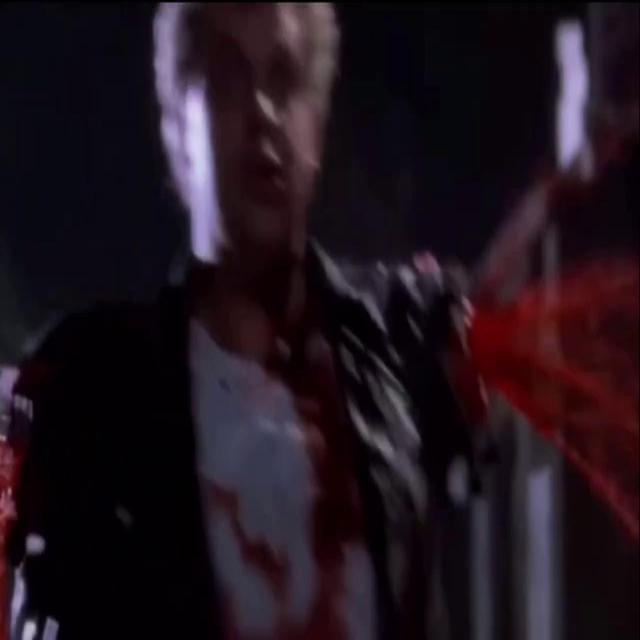flood: (448, 276, 640, 492)
